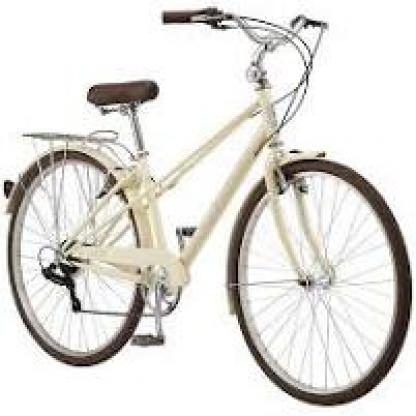Bike: (0, 5, 416, 408)
